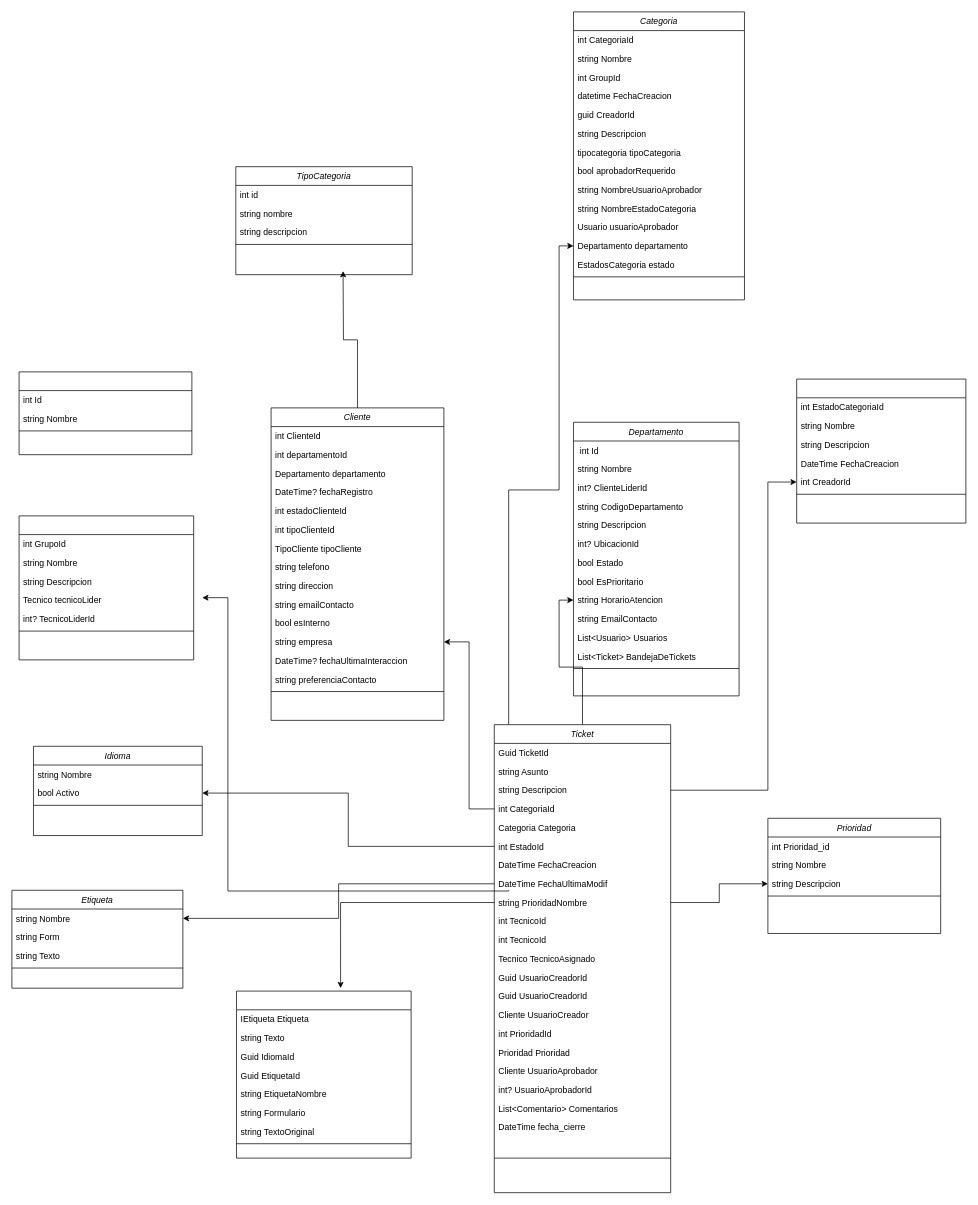
This 978x1205 diagram has some shape labels left out. Each missing label, with the box of its shape:
EstadosCategoria: (796, 378, 966, 523)
EstadoTicket: (18, 371, 192, 455)
GrupoTecnico: (18, 515, 194, 660)
Traduccion: (236, 990, 411, 1158)
